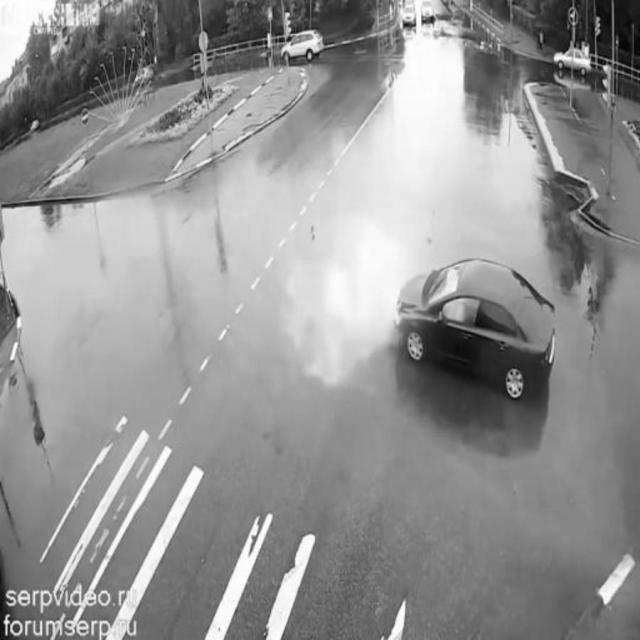vehicle: (396, 262, 553, 394), (284, 27, 322, 68), (552, 40, 590, 78), (400, 1, 418, 28)
